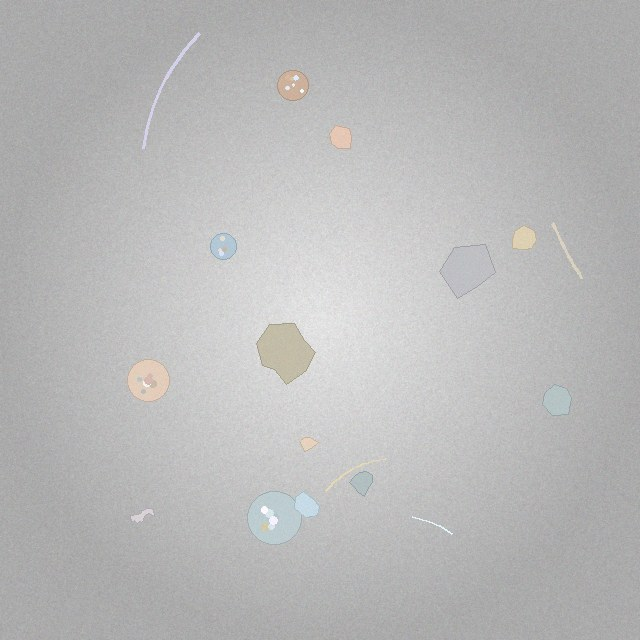fiber: (140, 31, 203, 152), (322, 457, 389, 495), (549, 220, 585, 282), (409, 514, 454, 536)
film: (131, 508, 155, 524)
foam: (248, 491, 301, 545), (127, 360, 169, 402), (278, 71, 308, 101), (211, 233, 236, 259)
fragment: (257, 323, 315, 385), (440, 244, 495, 299), (543, 385, 572, 416), (295, 492, 320, 518), (512, 226, 536, 250), (349, 472, 373, 496), (330, 125, 352, 149), (299, 437, 318, 451)
